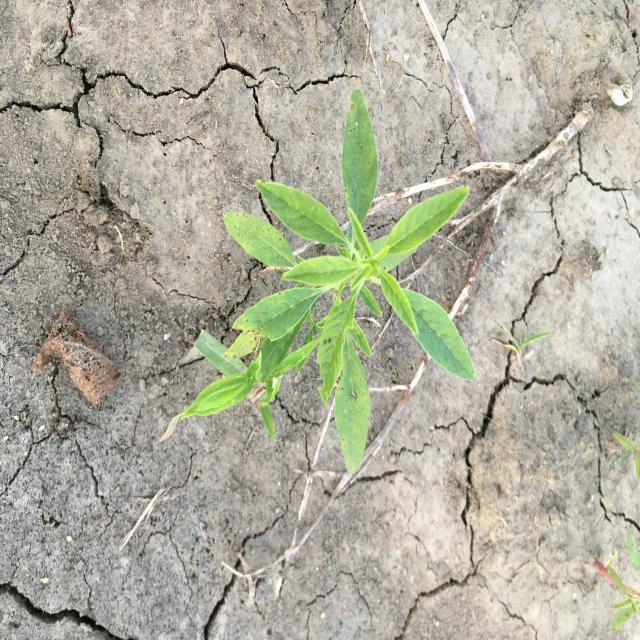Waterhemp: (223, 88, 477, 474)
